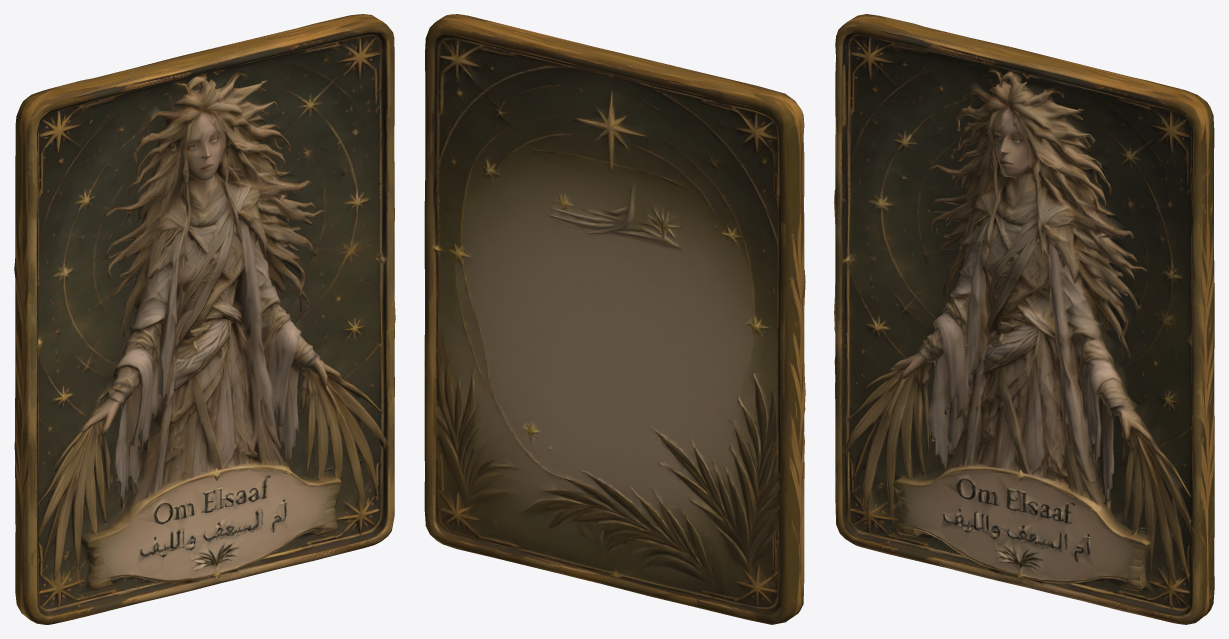
The model's file is om_elsaaf_card.fbx.
3 renders of one model, left to right at view 1: azimuth 30°, elevation 25°; view 2: azimuth 150°, elevation 25°; view 3: azimuth 330°, elevation 25°, orthographic.
Parts seen in each view (by area): view 1: om_elsaaf_card; view 2: om_elsaaf_card; view 3: om_elsaaf_card.
Boxes of the visible parts, left/top/right/bottom form: om_elsaaf_card: left=14, top=14, right=395, bottom=624; om_elsaaf_card: left=424, top=14, right=805, bottom=624; om_elsaaf_card: left=834, top=14, right=1214, bottom=624.
Size of the model in its own units: 71.68 by 97.56 by 7.91.
Materials: 1 (1 with a texture image).
